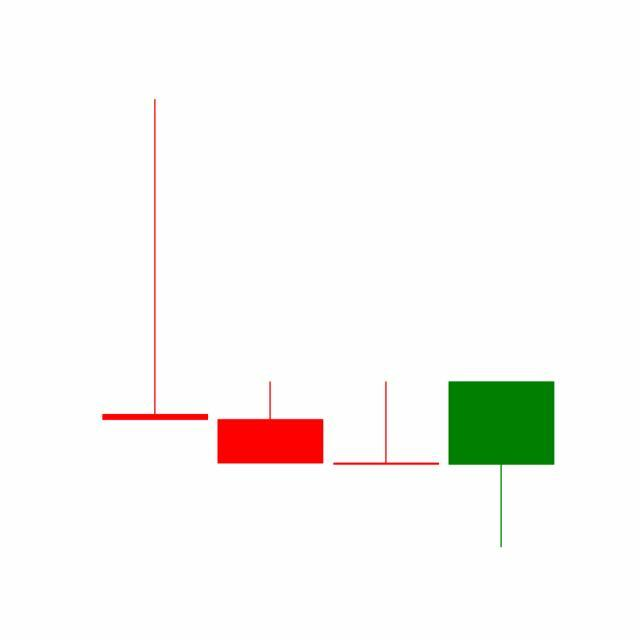Gravestone Doji: (329, 381, 445, 467)
